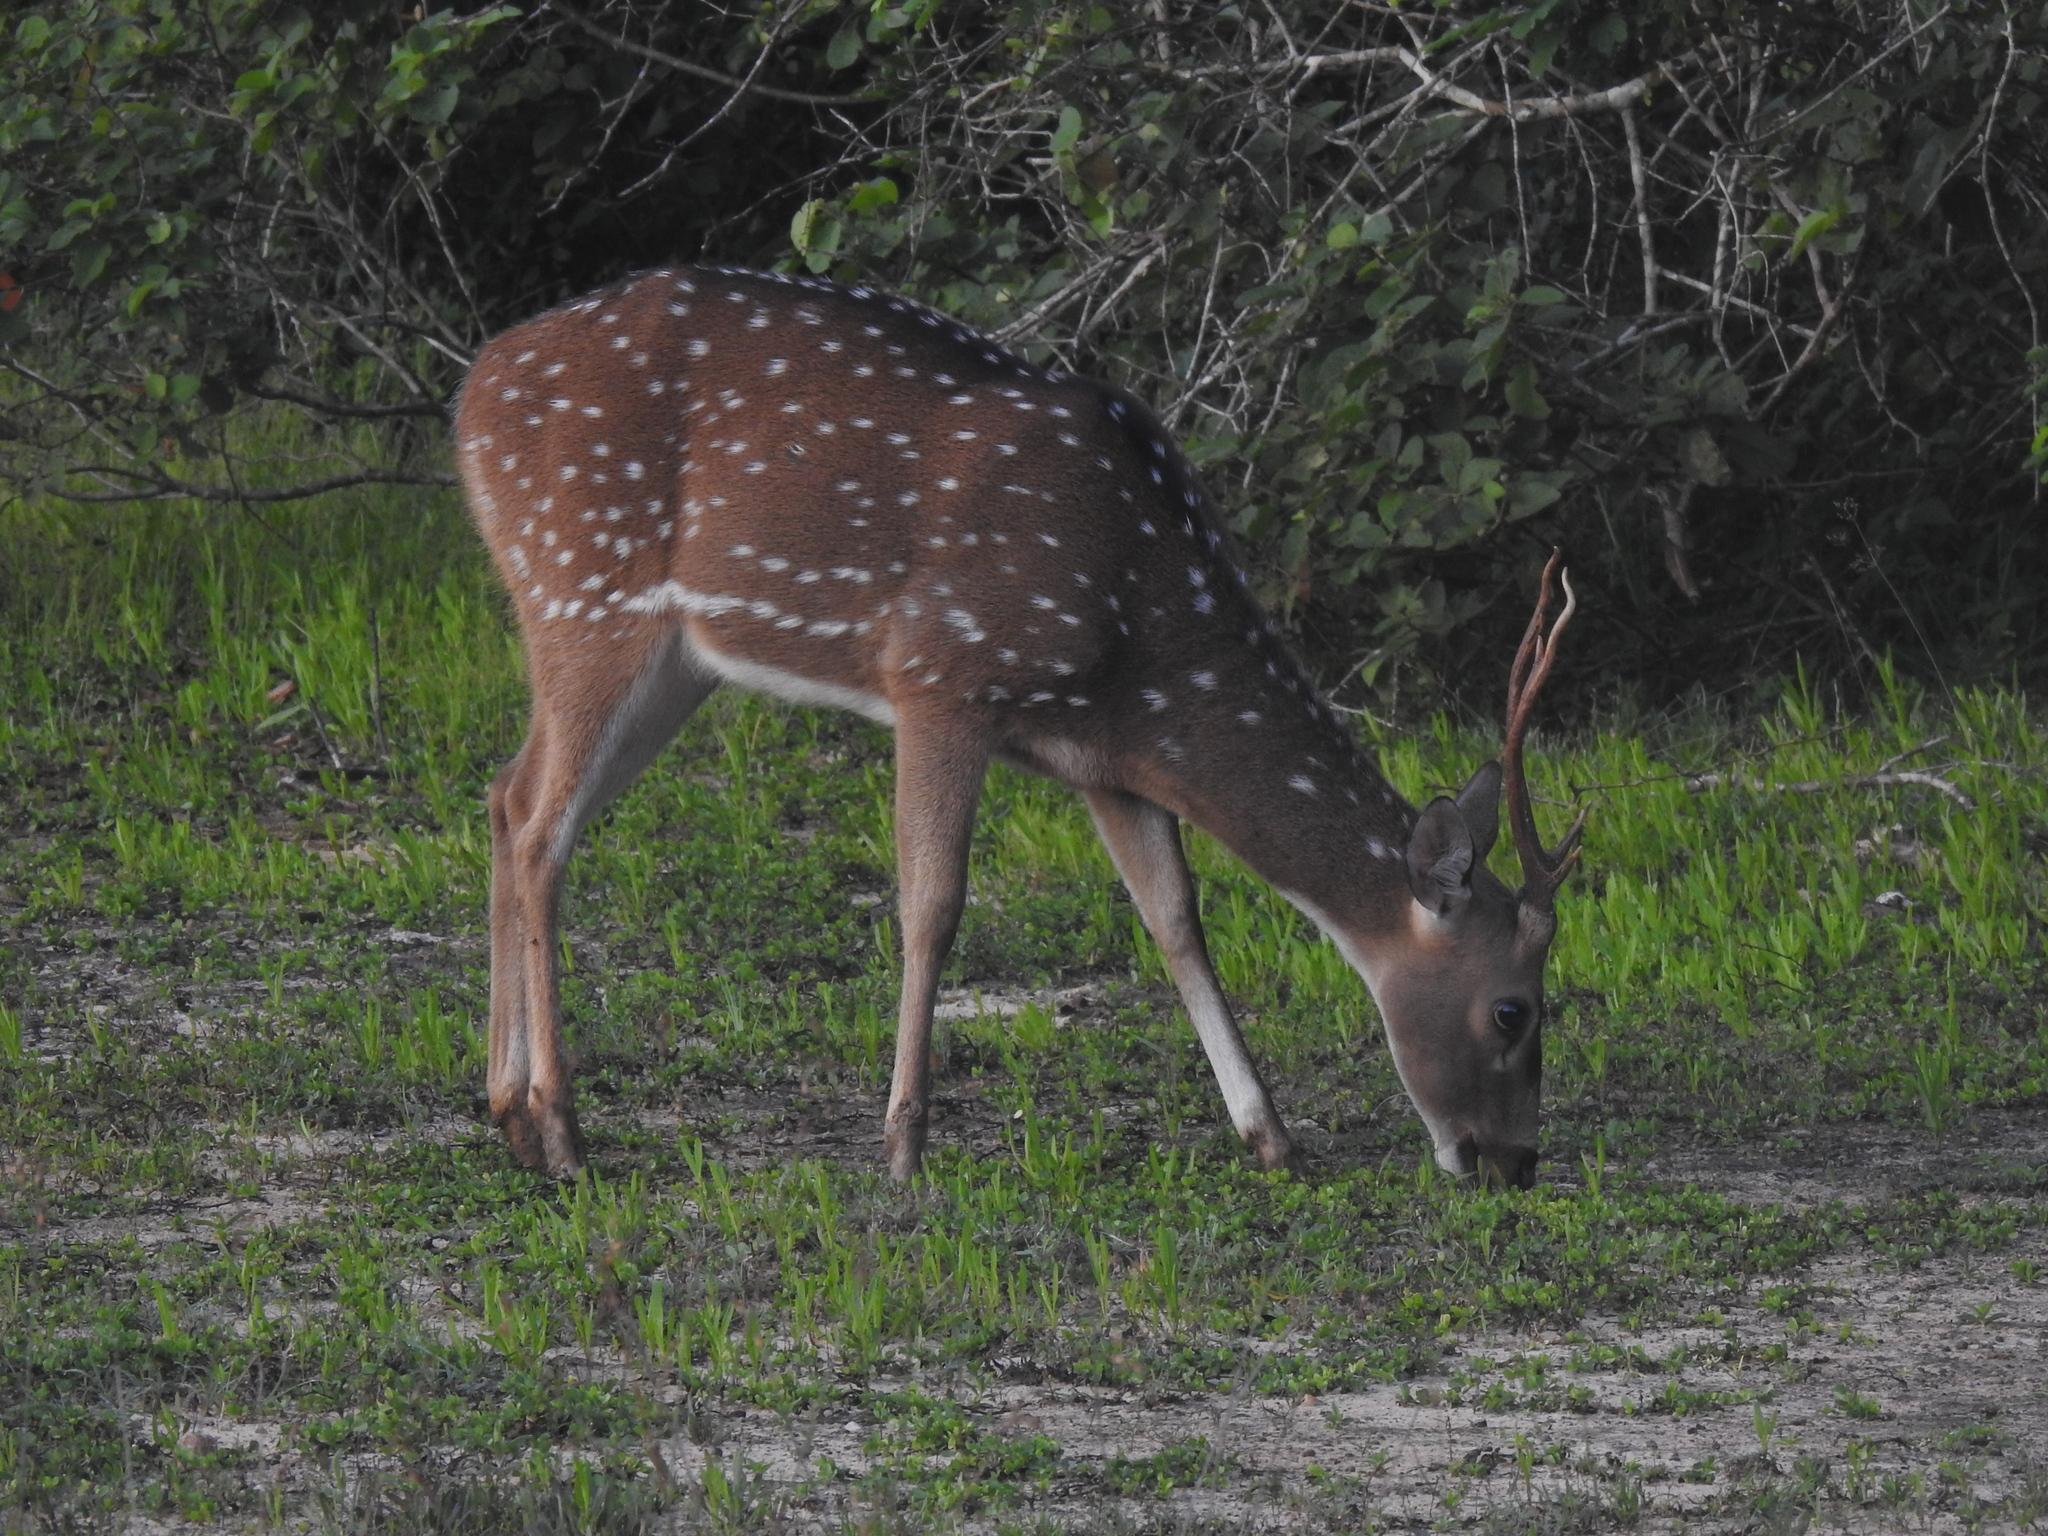Deer: (456, 266, 1585, 1187)
